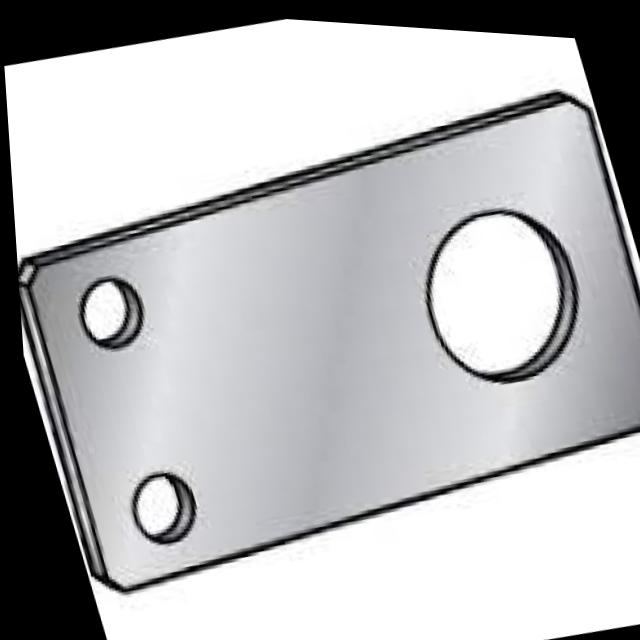holes: (396, 188, 598, 387), (113, 464, 198, 546), (64, 270, 146, 352)
